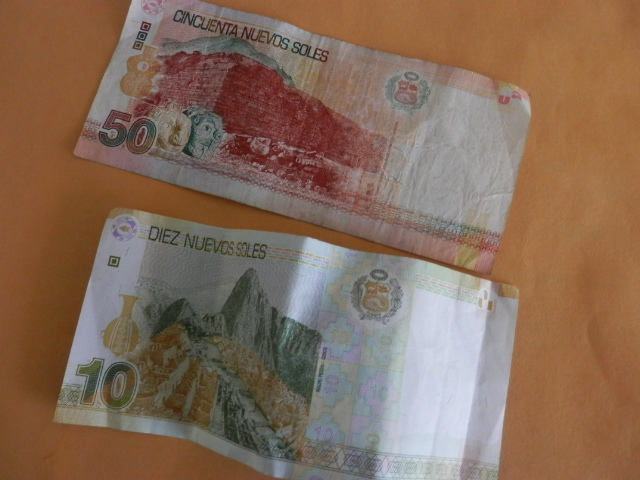B10: (32, 212, 527, 476)
B50: (48, 7, 532, 210)
